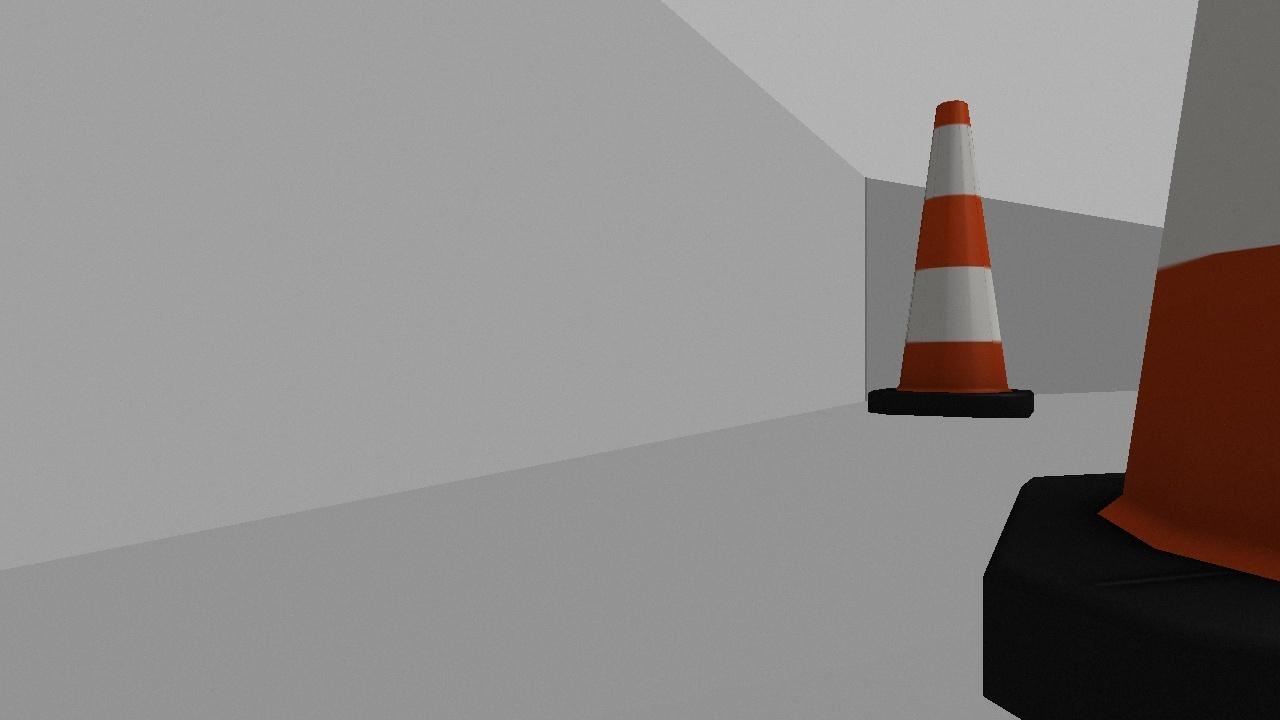cone_barrel: (850, 90, 1056, 451)
